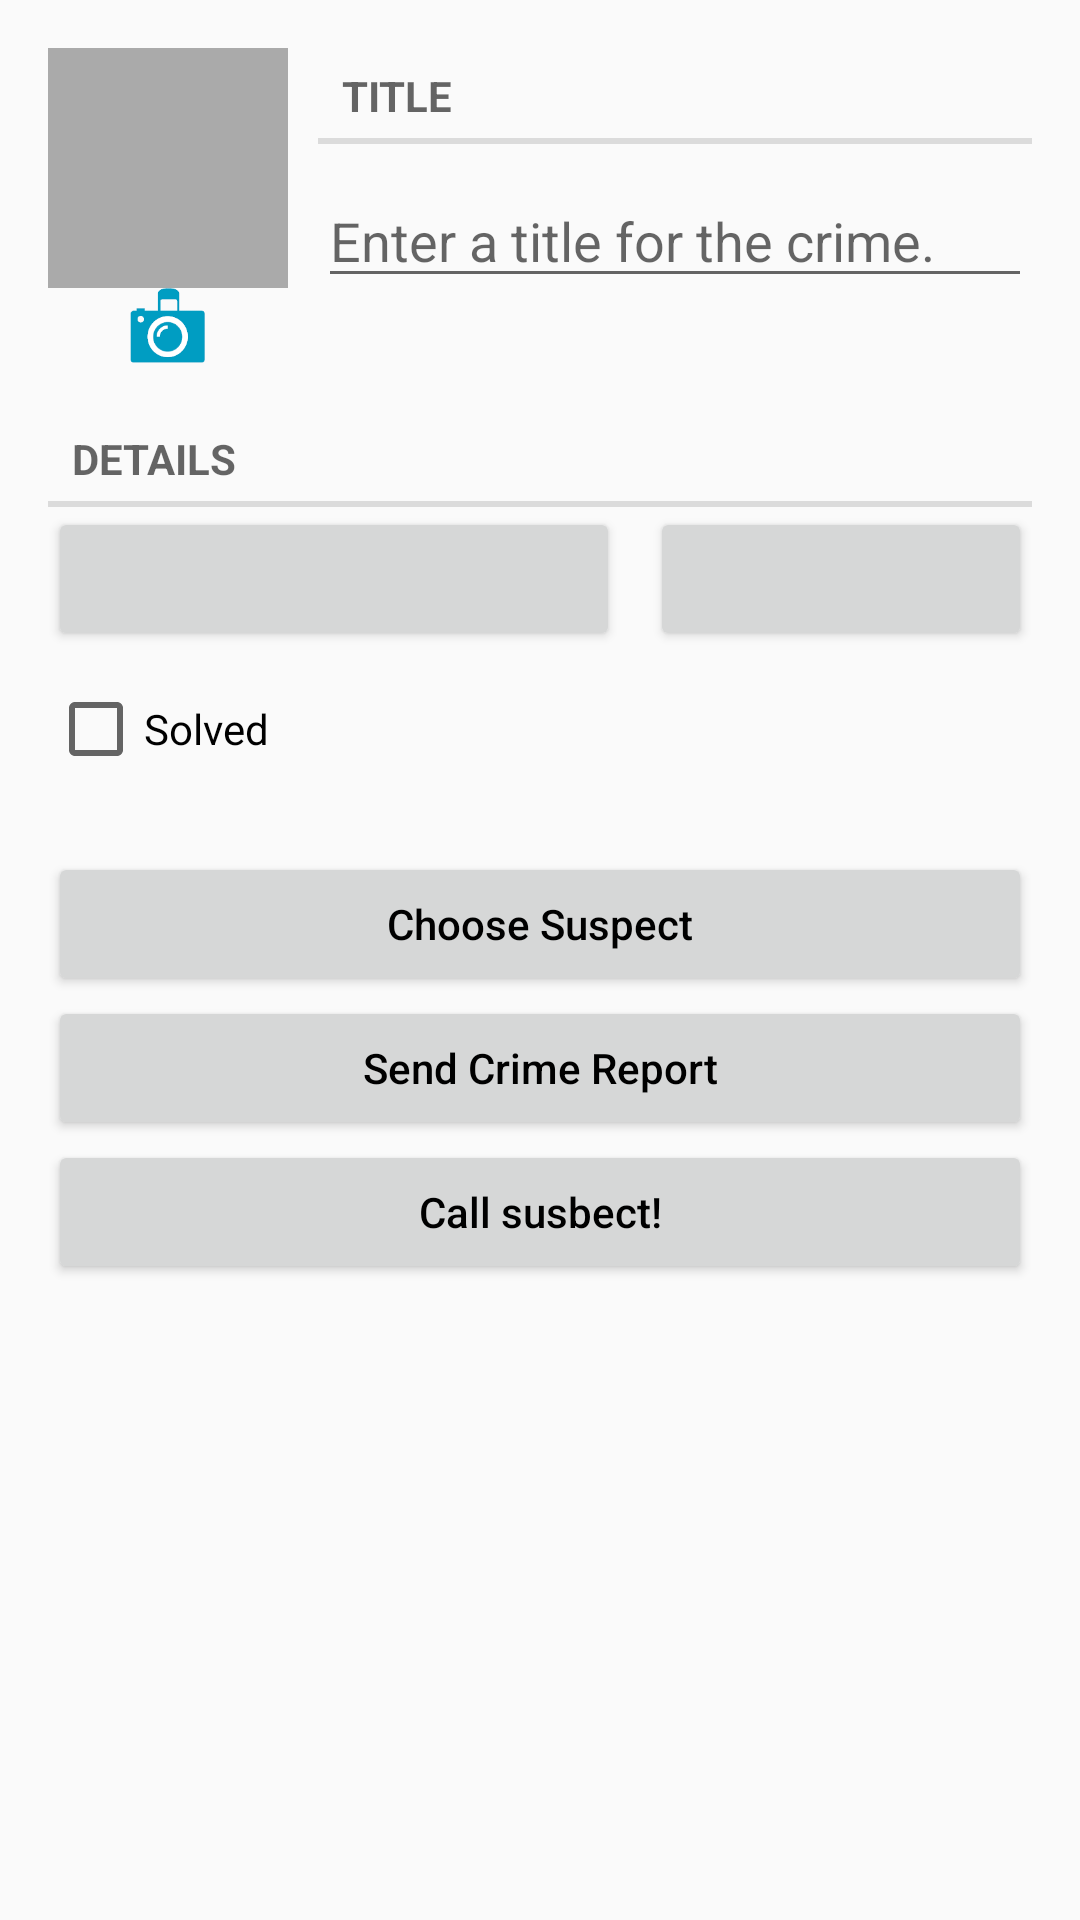

Named icons in this screenshot (1080w x 1920h) and their bounding boxes, (left=x1, top=y1, right=x2, bottom=y2):
cam but: (left=130, top=288, right=205, bottom=363)
